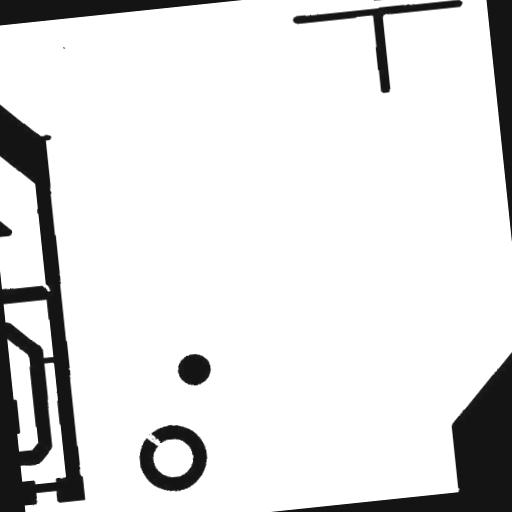mousebite: (30, 272, 58, 300)
open: (133, 420, 172, 458)
short: (22, 474, 67, 502), (32, 348, 68, 374)
spur: (28, 126, 60, 152)
